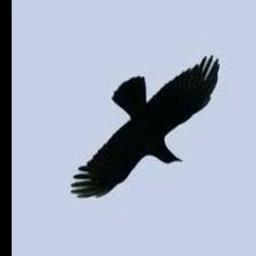Crow: (71, 55, 221, 199)
